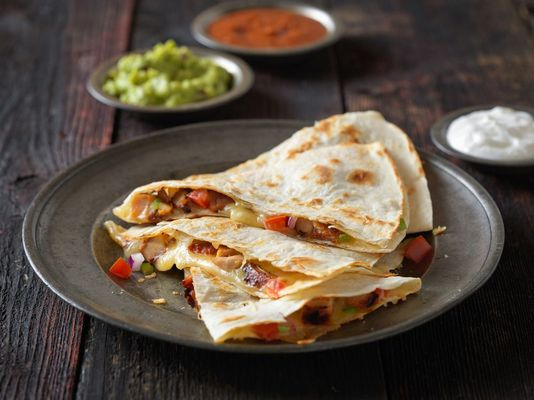soup: (120, 111, 430, 258)
